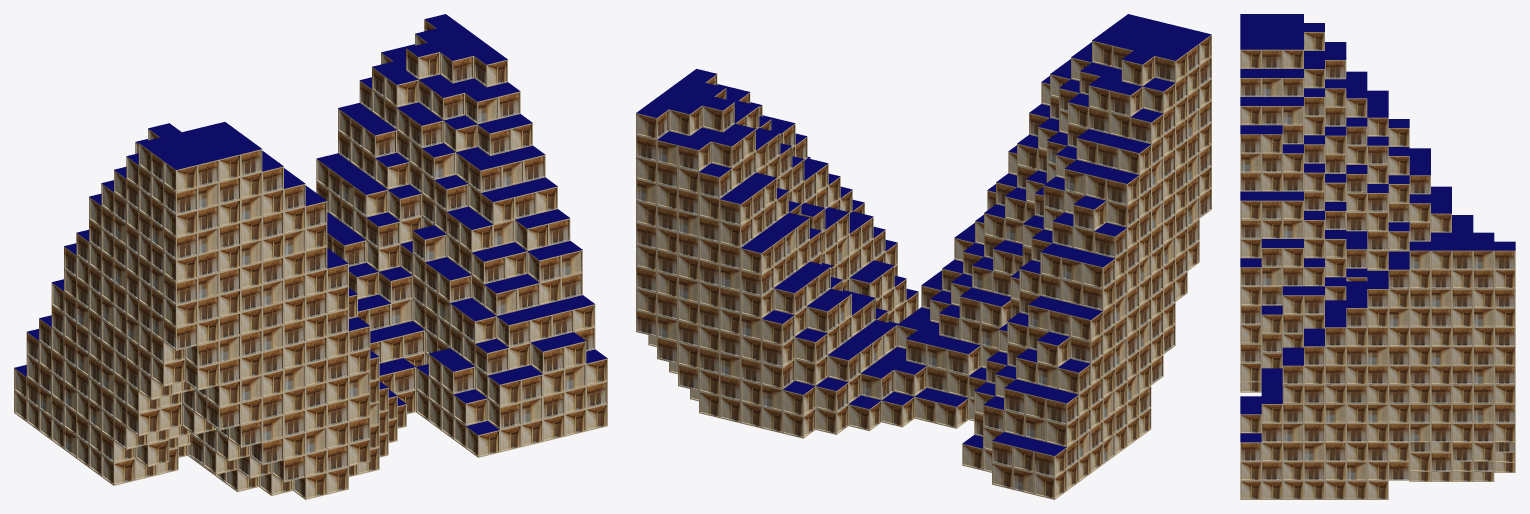
Rendered from archweekend_1_7.glb.
3 renders of one model, left to right at view 1: azimuth 30°, elevation 25°; view 2: azimuth 150°, elevation 25°; view 3: azimuth 270°, elevation 25°, orthographic. The views are drawn at different scales.
Parts seen in each view (by area): view 1: house-5; view 2: house-5; view 3: house-5.
Part boxes in pixels (box(x1,y1,x2,y2)): house-5: box(14, 14, 607, 499); house-5: box(636, 14, 1211, 499); house-5: box(1240, 14, 1515, 499).
Bounding box in the file's own units: 60 × 48 × 39.
4 materials, 3 textured.
